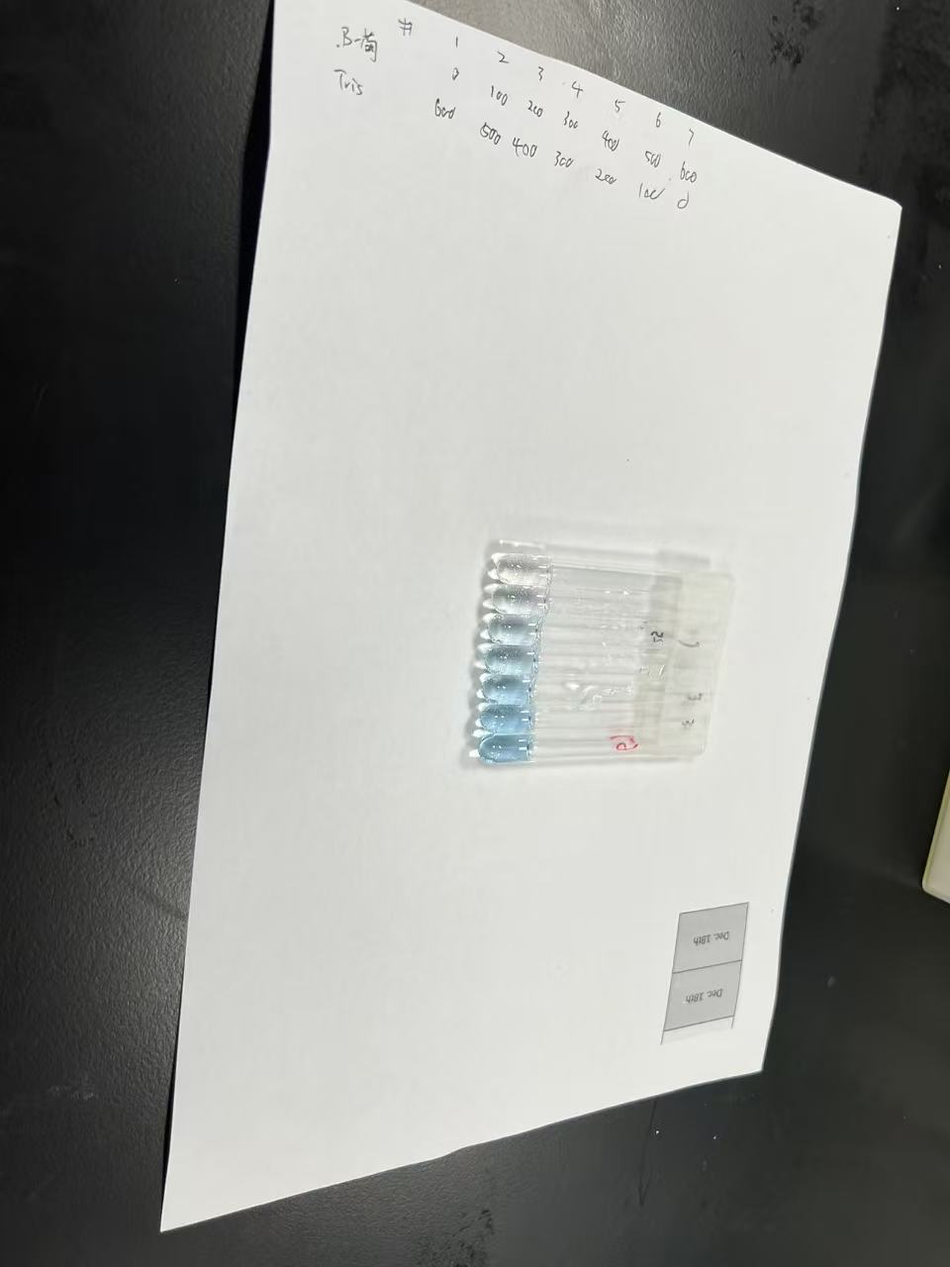drop: (495, 551, 557, 589), (489, 581, 551, 619), (488, 611, 547, 650), (484, 643, 542, 678), (477, 734, 540, 766), (480, 704, 538, 735), (483, 676, 538, 708)
